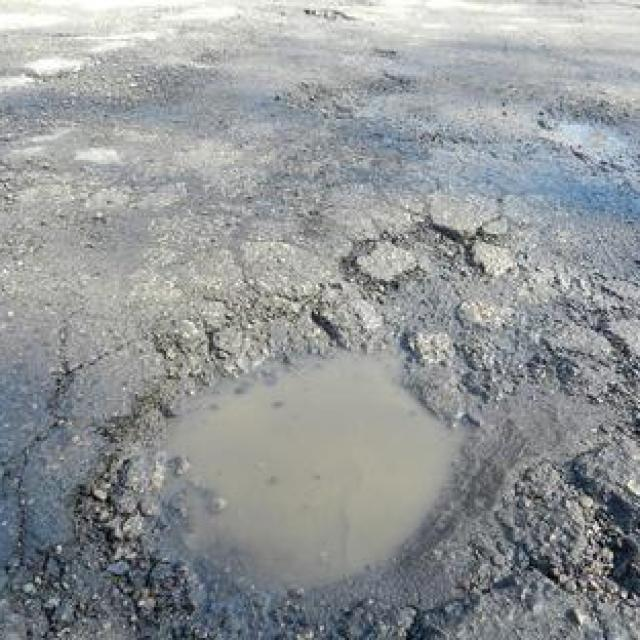pothole: (73, 243, 529, 640), (511, 414, 640, 636), (536, 303, 640, 402)
